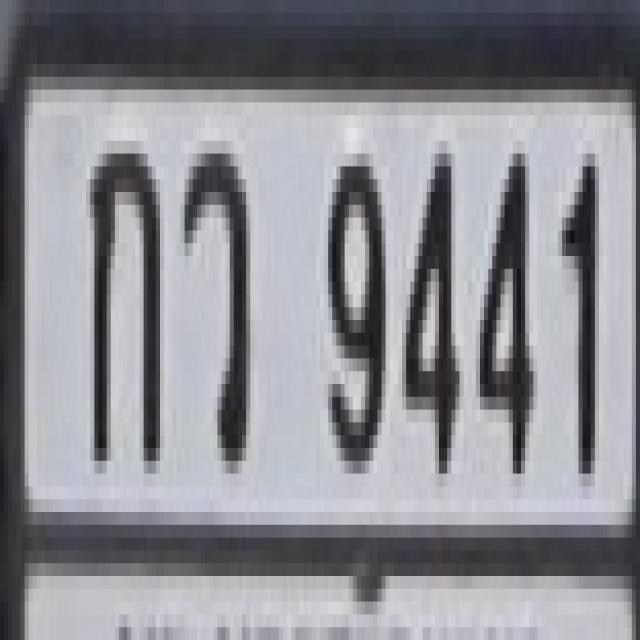1: (558, 141, 595, 461)
4: (476, 141, 529, 461), (402, 141, 455, 461)
9: (324, 141, 382, 461)
A01: (86, 128, 156, 448)
A37: (181, 141, 246, 448)
